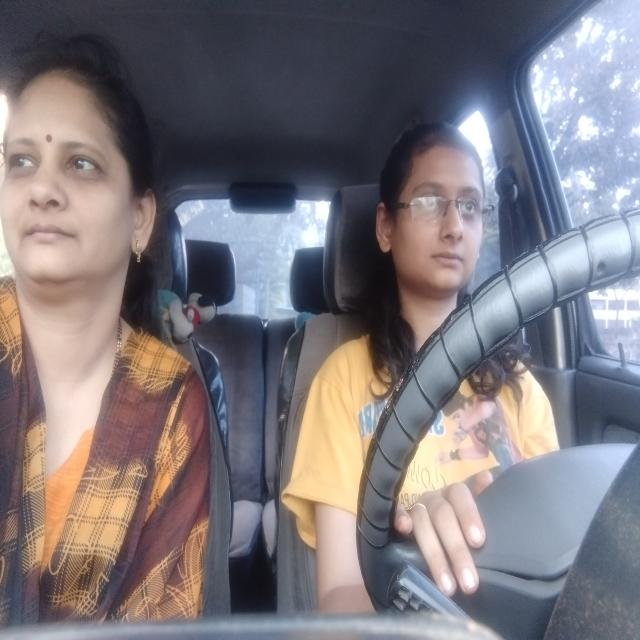person: (0, 40, 160, 318), (375, 119, 503, 305)
